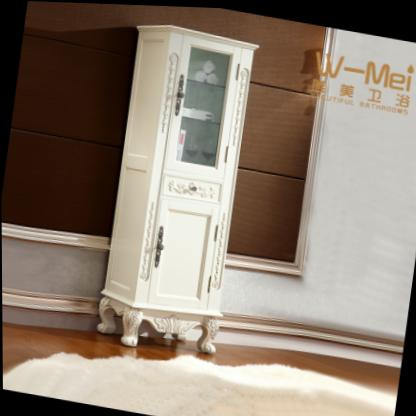Cupboard: (96, 24, 259, 353)
